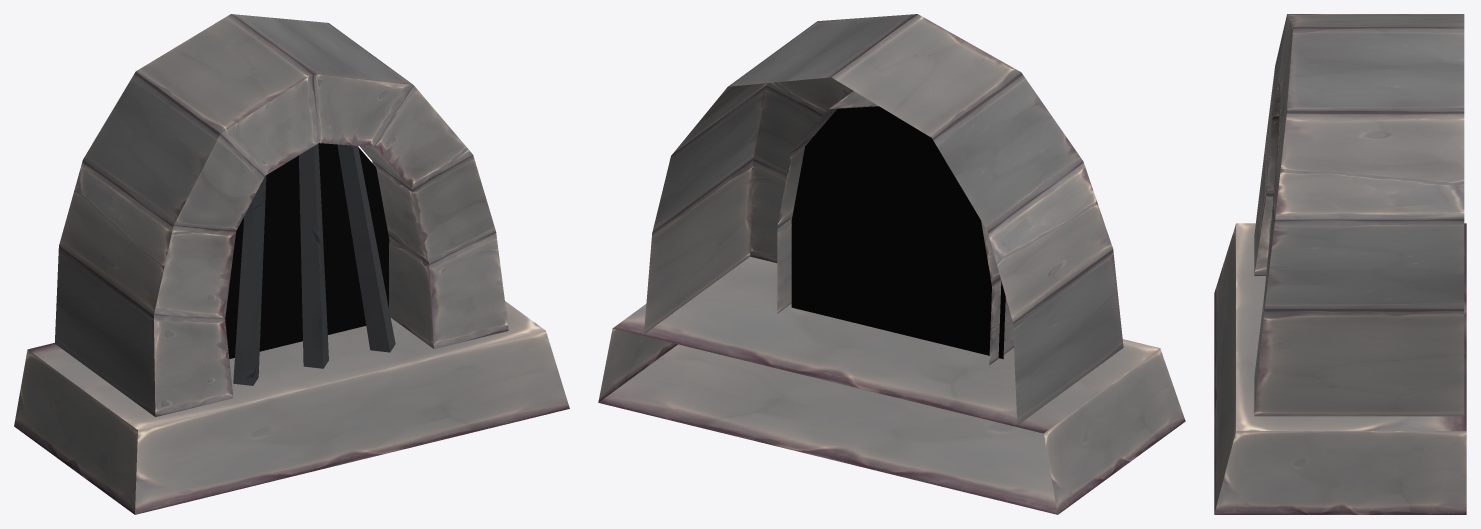
The model's file is SM_BLD_window_v09_02.fbx.
3 renders of one model, left to right at view 1: azimuth 30°, elevation 25°; view 2: azimuth 150°, elevation 25°; view 3: azimuth 270°, elevation 25°, orthographic. The views are drawn at different scales.
Parts seen in each view (by area): view 1: SM_BLD_window_v09_02; view 2: SM_BLD_window_v09_02; view 3: SM_BLD_window_v09_02.
Part boxes in pixels (x1=…): SM_BLD_window_v09_02: x1=14, y1=14, x2=569, y2=514; SM_BLD_window_v09_02: x1=598, y1=14, x2=1185, y2=514; SM_BLD_window_v09_02: x1=1214, y1=14, x2=1466, y2=514.
Bounding box in the file's own units: 154 × 122 × 74.11.
